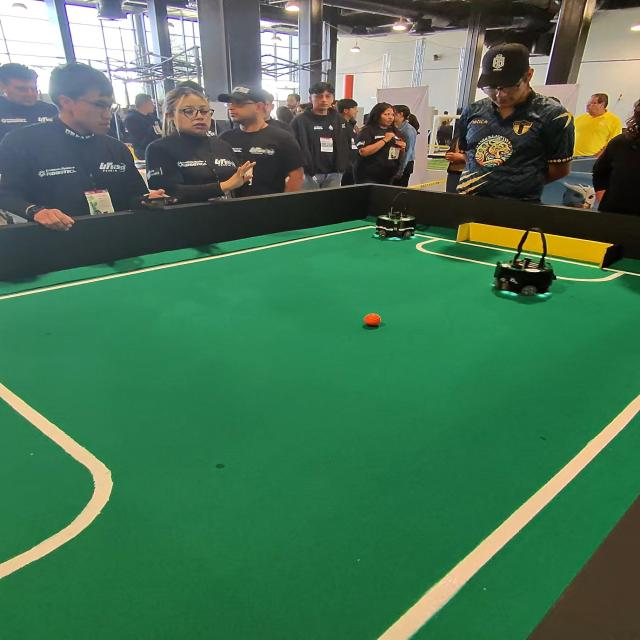Robot: (493, 225, 558, 308), (377, 186, 424, 252)
pelota: (356, 306, 394, 338)
